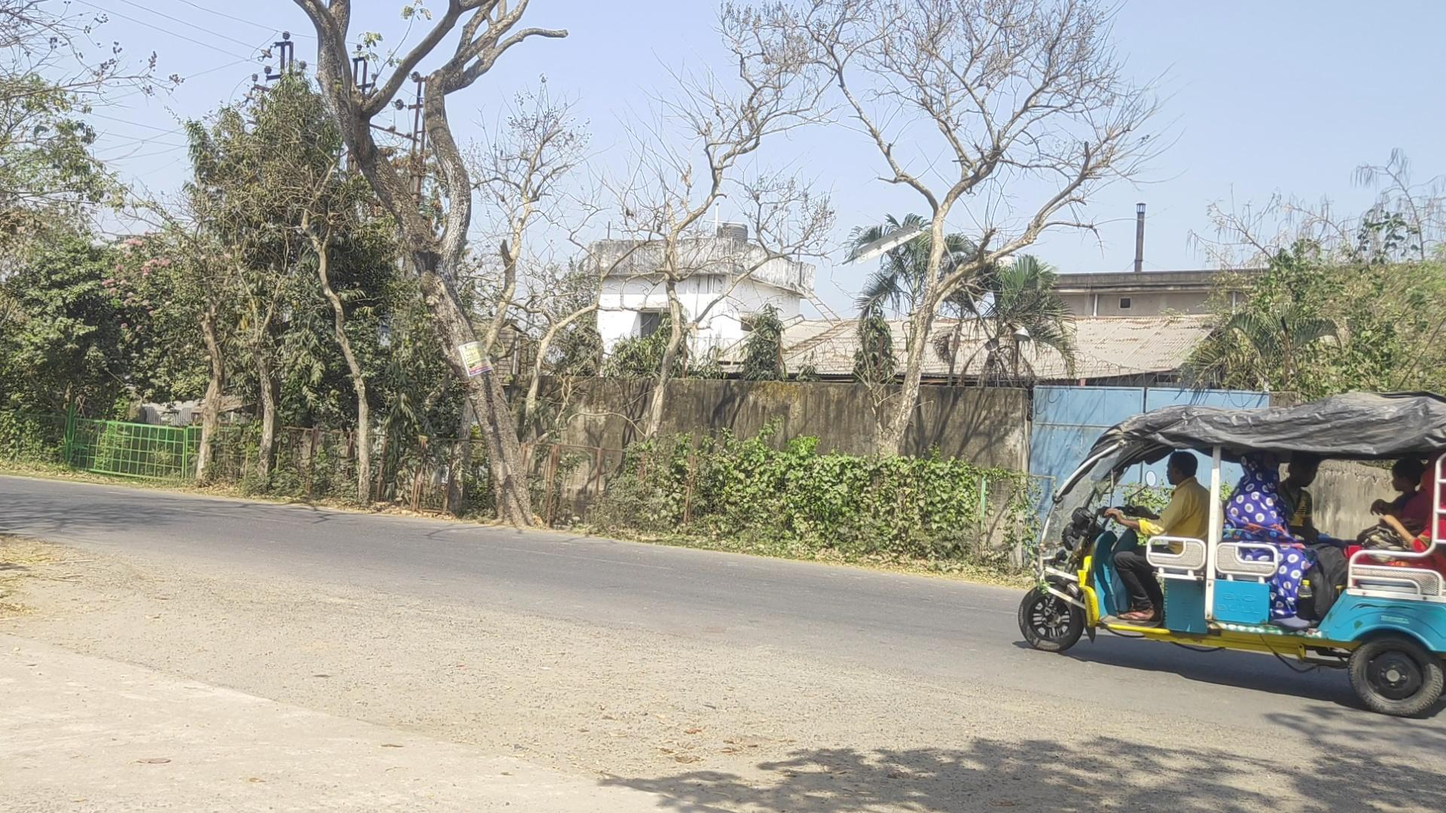Auto: (1017, 392, 1446, 717)
